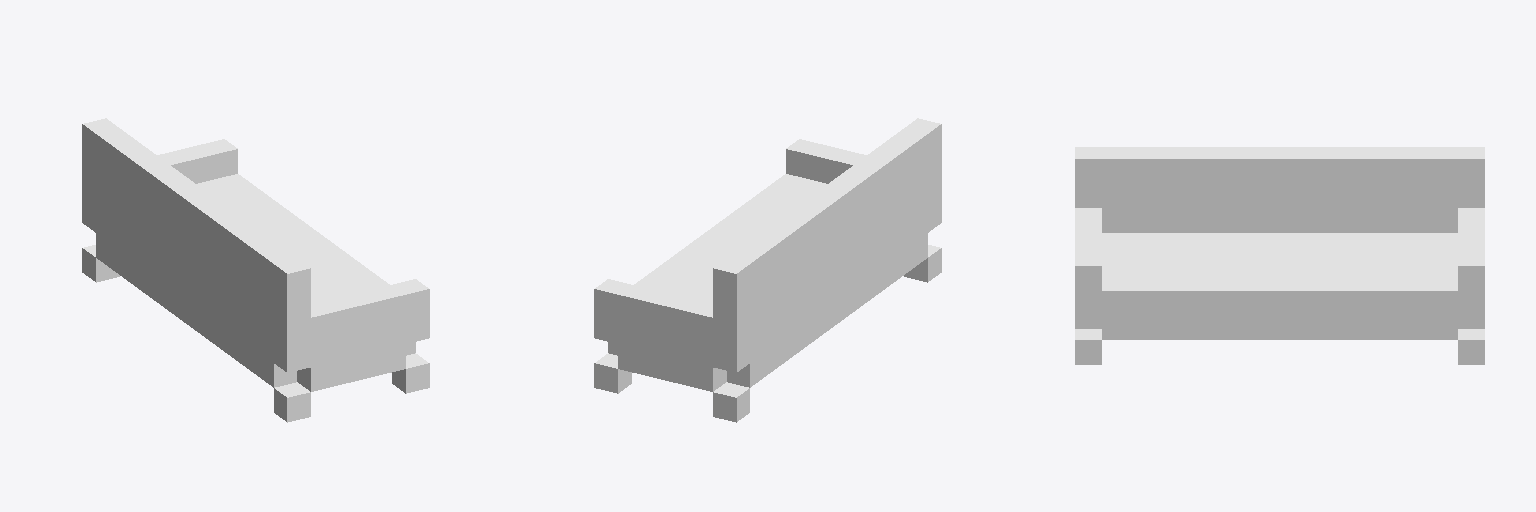
File: Bench.obj
3 views of the same model, side by side, from view 1: azimuth 30°, elevation 25°; view 2: azimuth 150°, elevation 25°; view 3: azimuth 270°, elevation 25° (orthographic).
Bounding box in the file's own units: 6 × 6 × 15.